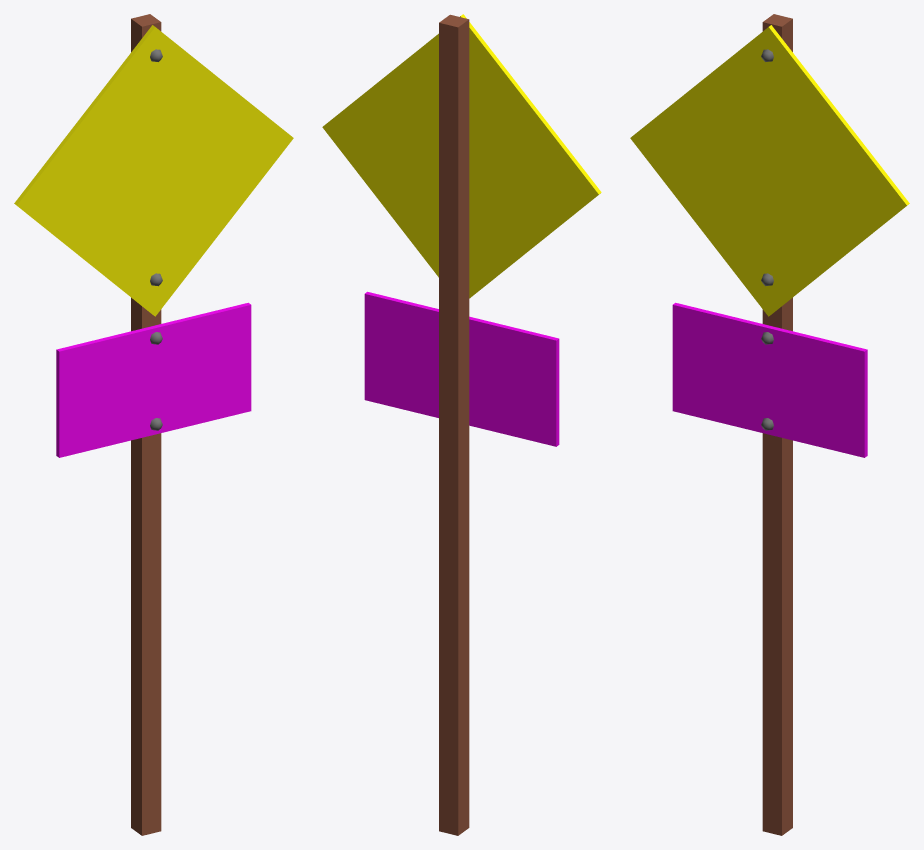
File: sign_dia_01.fbx
The picture shows the model from 3 angles, left to right: view 1: azimuth 30°, elevation 25°; view 2: azimuth 150°, elevation 25°; view 3: azimuth 330°, elevation 25°; orthographic projection.
Parts seen in each view (by area): view 1: sign, square_sign, pole; view 2: sign, pole, square_sign; view 3: sign, square_sign, pole.
Part boxes in pixels (<box>): sign: <box>14,25,293,316</box>; square_sign: <box>56,302,251,457</box>; pole: <box>131,14,161,835</box>; sign: <box>322,14,601,298</box>; pole: <box>439,14,469,835</box>; square_sign: <box>364,291,559,446</box>; sign: <box>630,25,909,316</box>; square_sign: <box>672,302,867,457</box>; pole: <box>762,14,792,835</box>.
Size of the model in its own units: 27.13 by 75.78 by 3.19.
